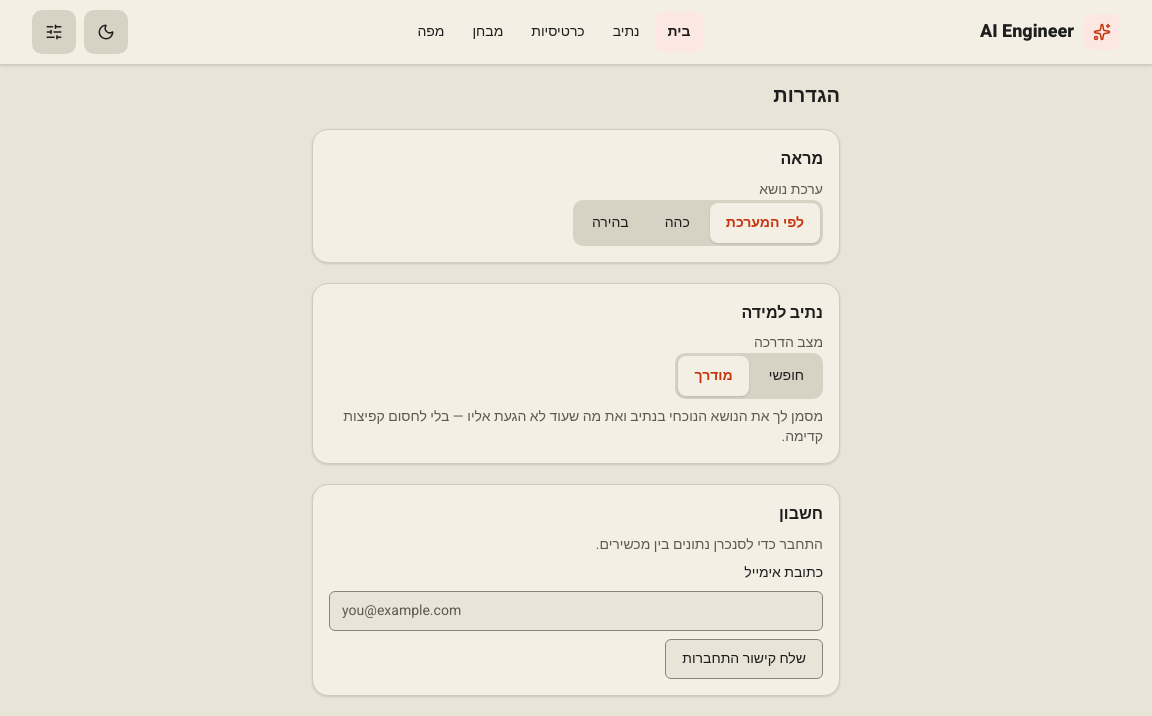
Settings — path mode › choosing free stores it and switches the description
Click the radio button labelled "חופשי" at (786, 376), box left=753, top=356, right=820, bottom=396
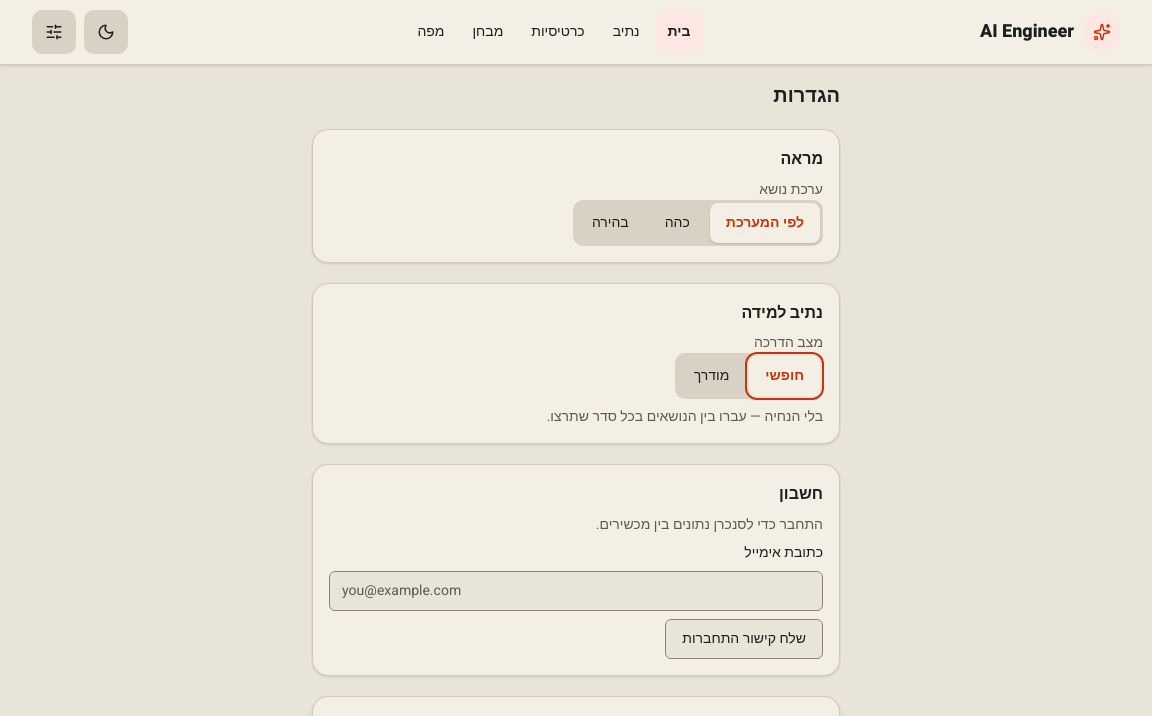
expect the radio button labelled "חופשי" is checked: met, box left=749, top=356, right=820, bottom=396
expect the text "בלי הנחיה — עברו בין הנושאים בכל סדר שתרצו." is shown: met, box left=547, top=406, right=823, bottom=427
